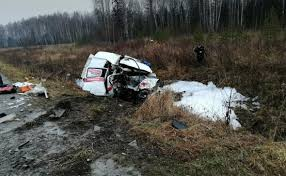car: (79, 41, 161, 104)
